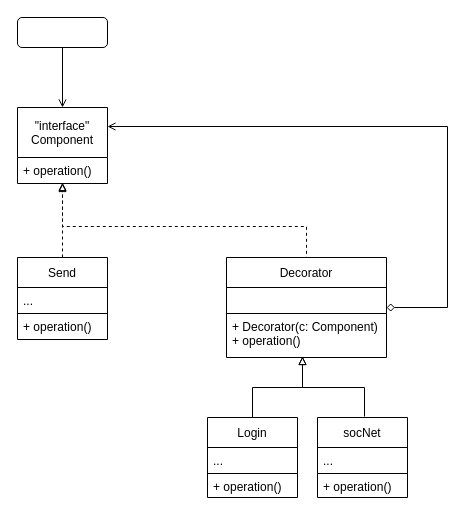
Image size: 474x518. Some labels were removed from this diagram. Each missing label, with the centre of its shape:
- component: Component: [306,300]
Client: [62,32]
